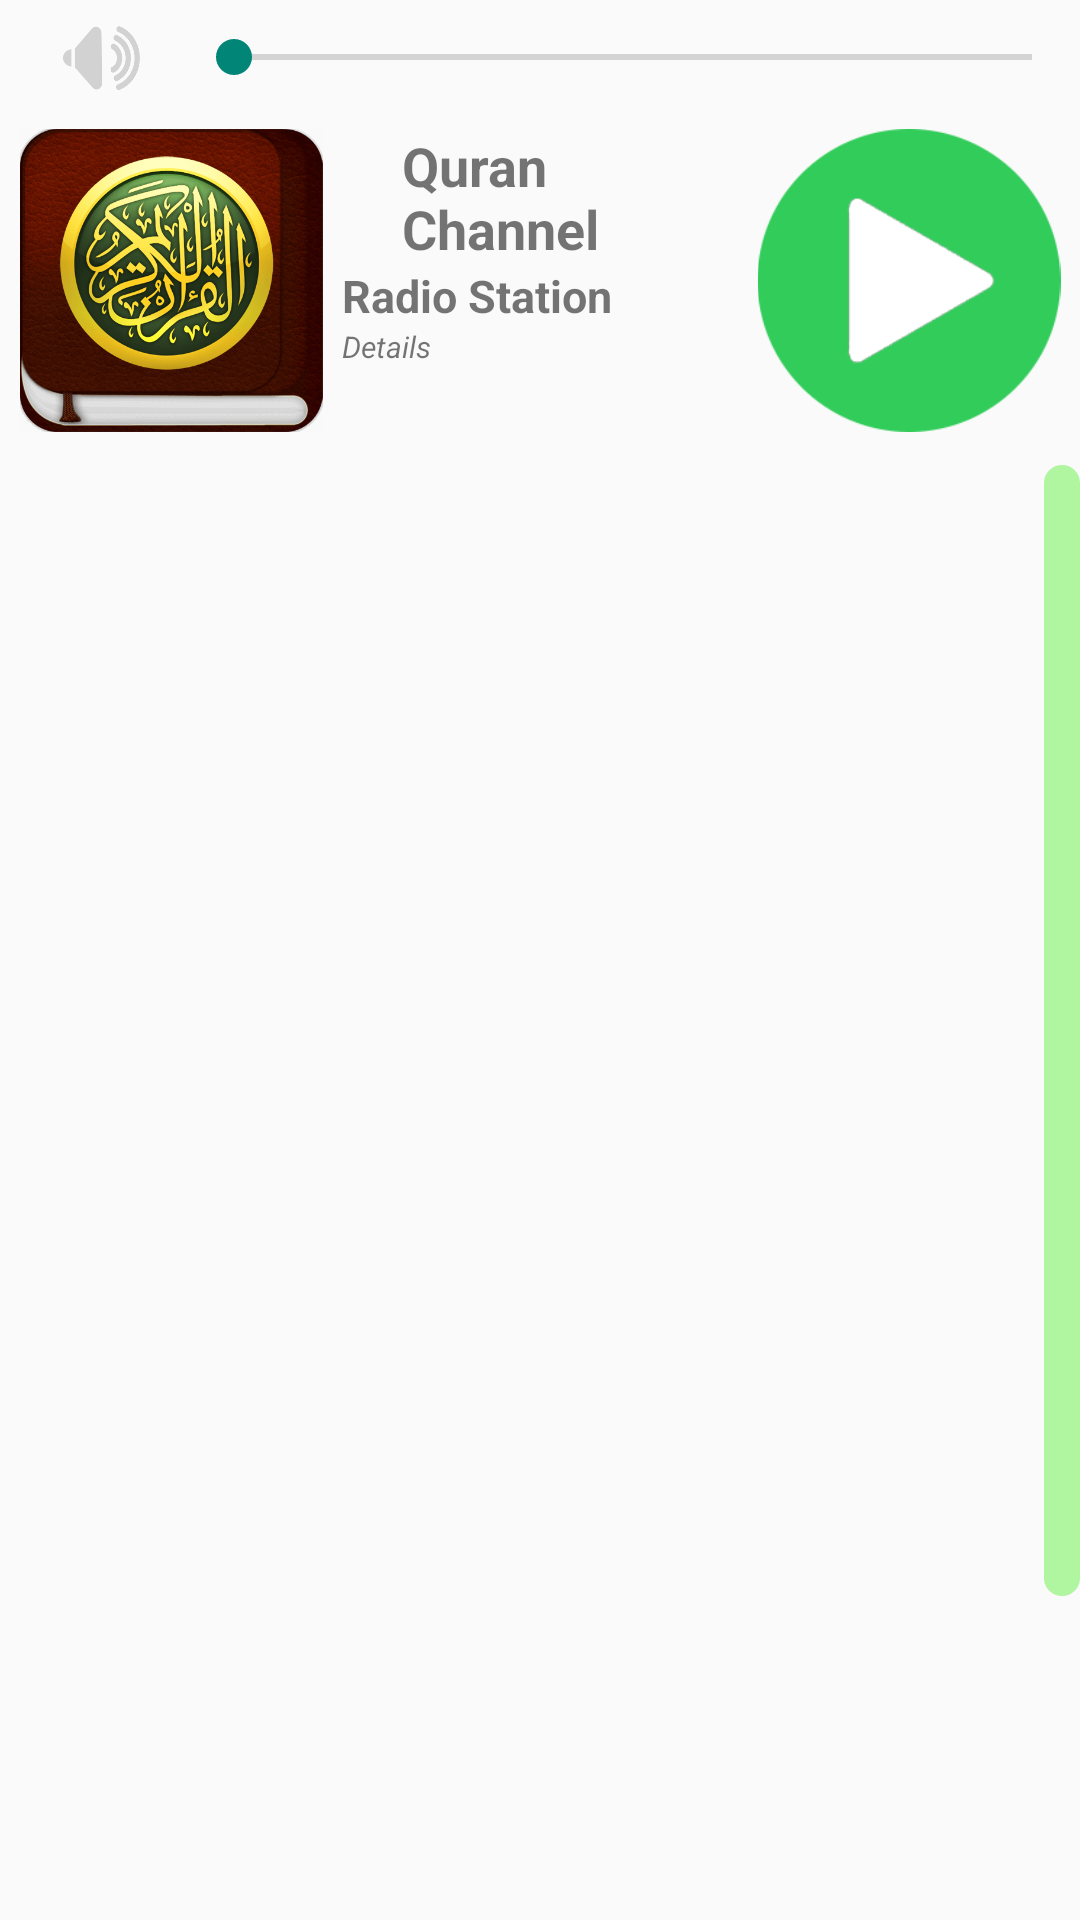

Icons on this 1080 × 1920 Android screen, each with its box as {"x1": x1, "y1": y1, "x2": x2, "y2": y2}:
play: {"x1": 758, "y1": 129, "x2": 1061, "y2": 432}
speaker: {"x1": 63, "y1": 26, "x2": 140, "y2": 90}
